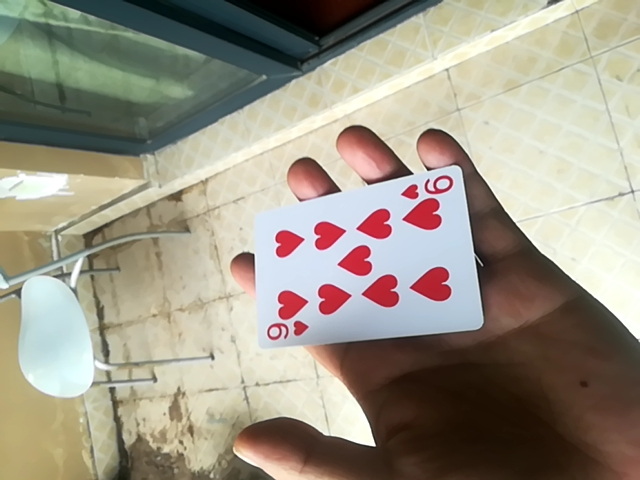hx 9: (254, 157, 482, 350)
